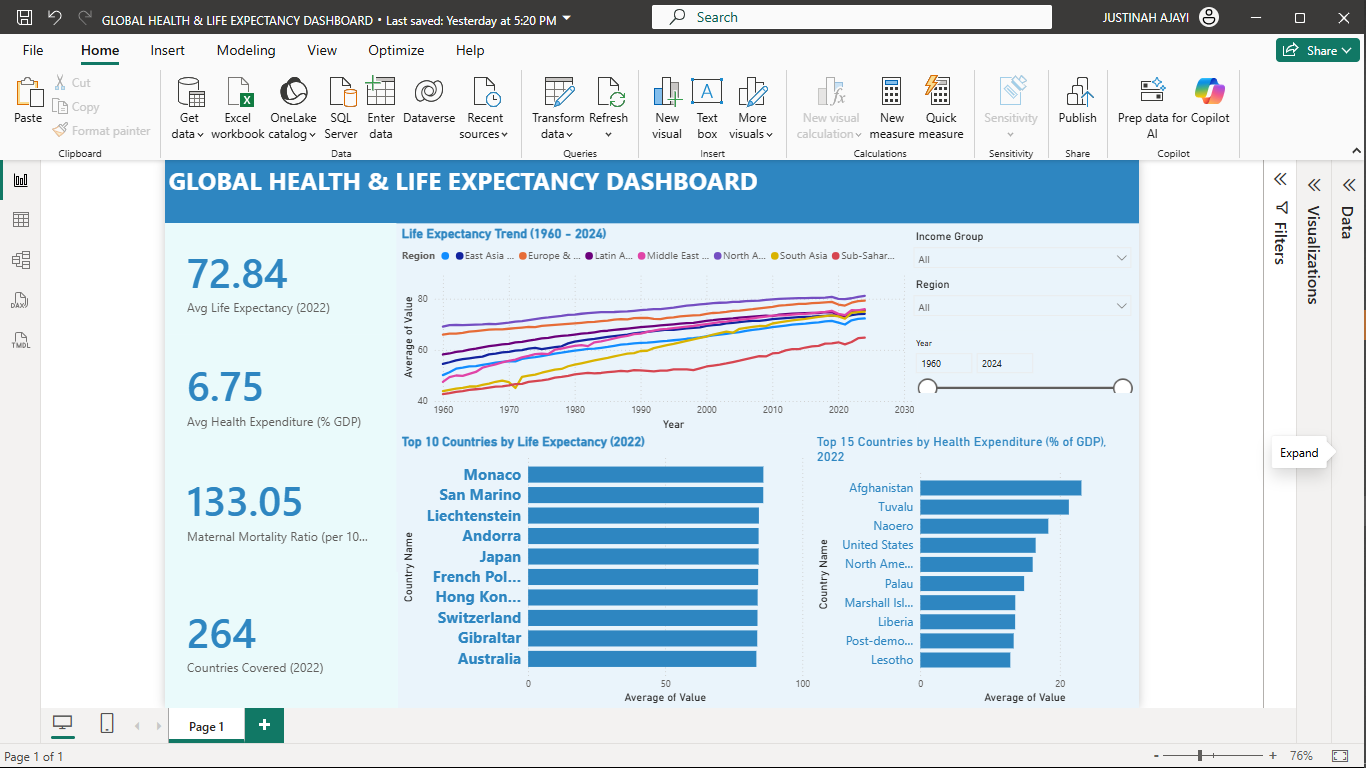

Layout of this report page (visuals, bound fields, positions):
{"tool":"powerbi","page":{"name":"Page 1","canvas":[1280,720],"ordinal":0},"visuals":[{"type":"shape","box":[0,0,1280,82.6],"z":0},{"type":"textbox","box":[0,0,1280,82.6],"z":1000},{"type":"cardVisual","fields":{"Data":["Avg(WDICSV.Value)"]},"box":[0,82.6,304.2,147.3],"z":2000},{"type":"cardVisual","fields":{"Data":["Avg(WDICSV.Value)"]},"box":[0,229.8,304.2,152.8],"z":3000},{"type":"cardVisual","fields":{"Data":["Avg(WDICSV.Value)"]},"box":[0,360.6,304.2,194.1],"z":4000},{"type":"cardVisual","fields":{"Data":["Count(WDICSV.Country Name)"]},"box":[0,540.9,305.5,178.9],"z":5000},{"type":"lineChart","title":"Life Expectancy Trend (1960 - 2024)","fields":{"Category":["WDICSV.Year"],"Y":["Avg(WDICSV.Value)"],"Series":["WDICountry.Region"]},"box":[306.1,86.7,683.2,273.3],"z":6000},{"type":"barChart","title":"Top 10 Countries by Life Expectancy (2022)","fields":{"Category":["WDICSV.Country Name"],"Y":["Avg(WDICSV.Value)"]},"box":[305.5,360.6,546.4,359.2],"z":7000},{"type":"barChart","title":"Top 15 Countries by Health Expenditure (% of GDP), 2022","fields":{"Category":["WDICSV.Country Name"],"Y":["Avg(WDICSV.Value)"]},"box":[852,360.6,428,359.2],"z":8000},{"type":"slicer","fields":{"Values":["WDICountry.Region"]},"box":[973.6,149.8,306.1,73.6],"z":9000},{"type":"slicer","fields":{"Values":["WDICSV.Income Group"]},"box":[973.6,86.7,306.1,60.4],"z":9001},{"type":"slicer","fields":{"Values":["WDICSV.Year"]},"box":[973.6,229.9,306.1,76.2],"z":9002}]}

Visuals, with their boxes on the page's 1280x720 design canvas (x1, y1, x2, y2). These are canvas units, not pixel positions in the 1366x768 screenshot, which may show the page scaled, cropped or inside an application window:
shape: l=0, t=0, r=1280, b=83
textbox: l=0, t=0, r=1280, b=83
cardVisual - Avg(WDICSV.Value): l=0, t=83, r=304, b=230
cardVisual - Avg(WDICSV.Value): l=0, t=230, r=304, b=383
cardVisual - Avg(WDICSV.Value): l=0, t=361, r=304, b=555
cardVisual - Count(WDICSV.Country Name): l=0, t=541, r=306, b=720
"Life Expectancy Trend (1960 - 2024)" lineChart: l=306, t=87, r=989, b=360
"Top 10 Countries by Life Expectancy (2022)" barChart: l=306, t=361, r=852, b=720
"Top 15 Countries by Health Expenditure (% of GDP), 2022" barChart: l=852, t=361, r=1280, b=720
slicer - WDICountry.Region: l=974, t=150, r=1280, b=223
slicer - WDICSV.Income Group: l=974, t=87, r=1280, b=147
slicer - WDICSV.Year: l=974, t=230, r=1280, b=306
